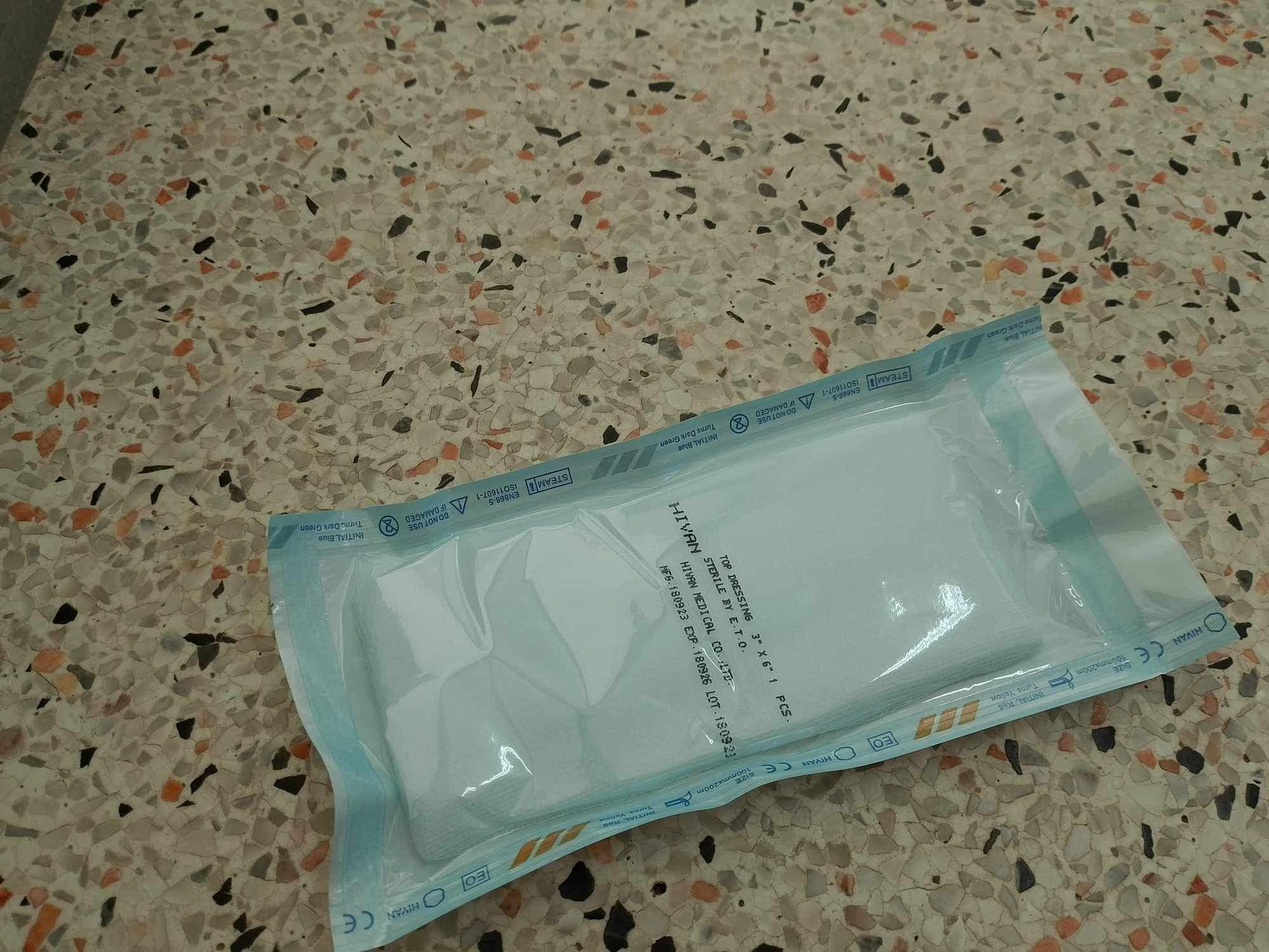Infectious: (264, 301, 1240, 949)
